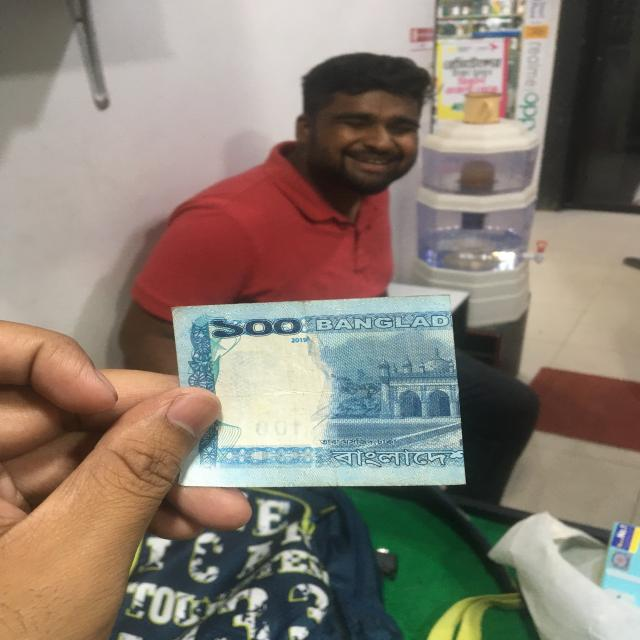Taka: (175, 299, 466, 489)
